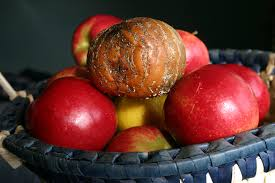apple: (177, 69, 256, 147), (37, 78, 110, 151)
damaged_apple: (89, 21, 185, 95)
